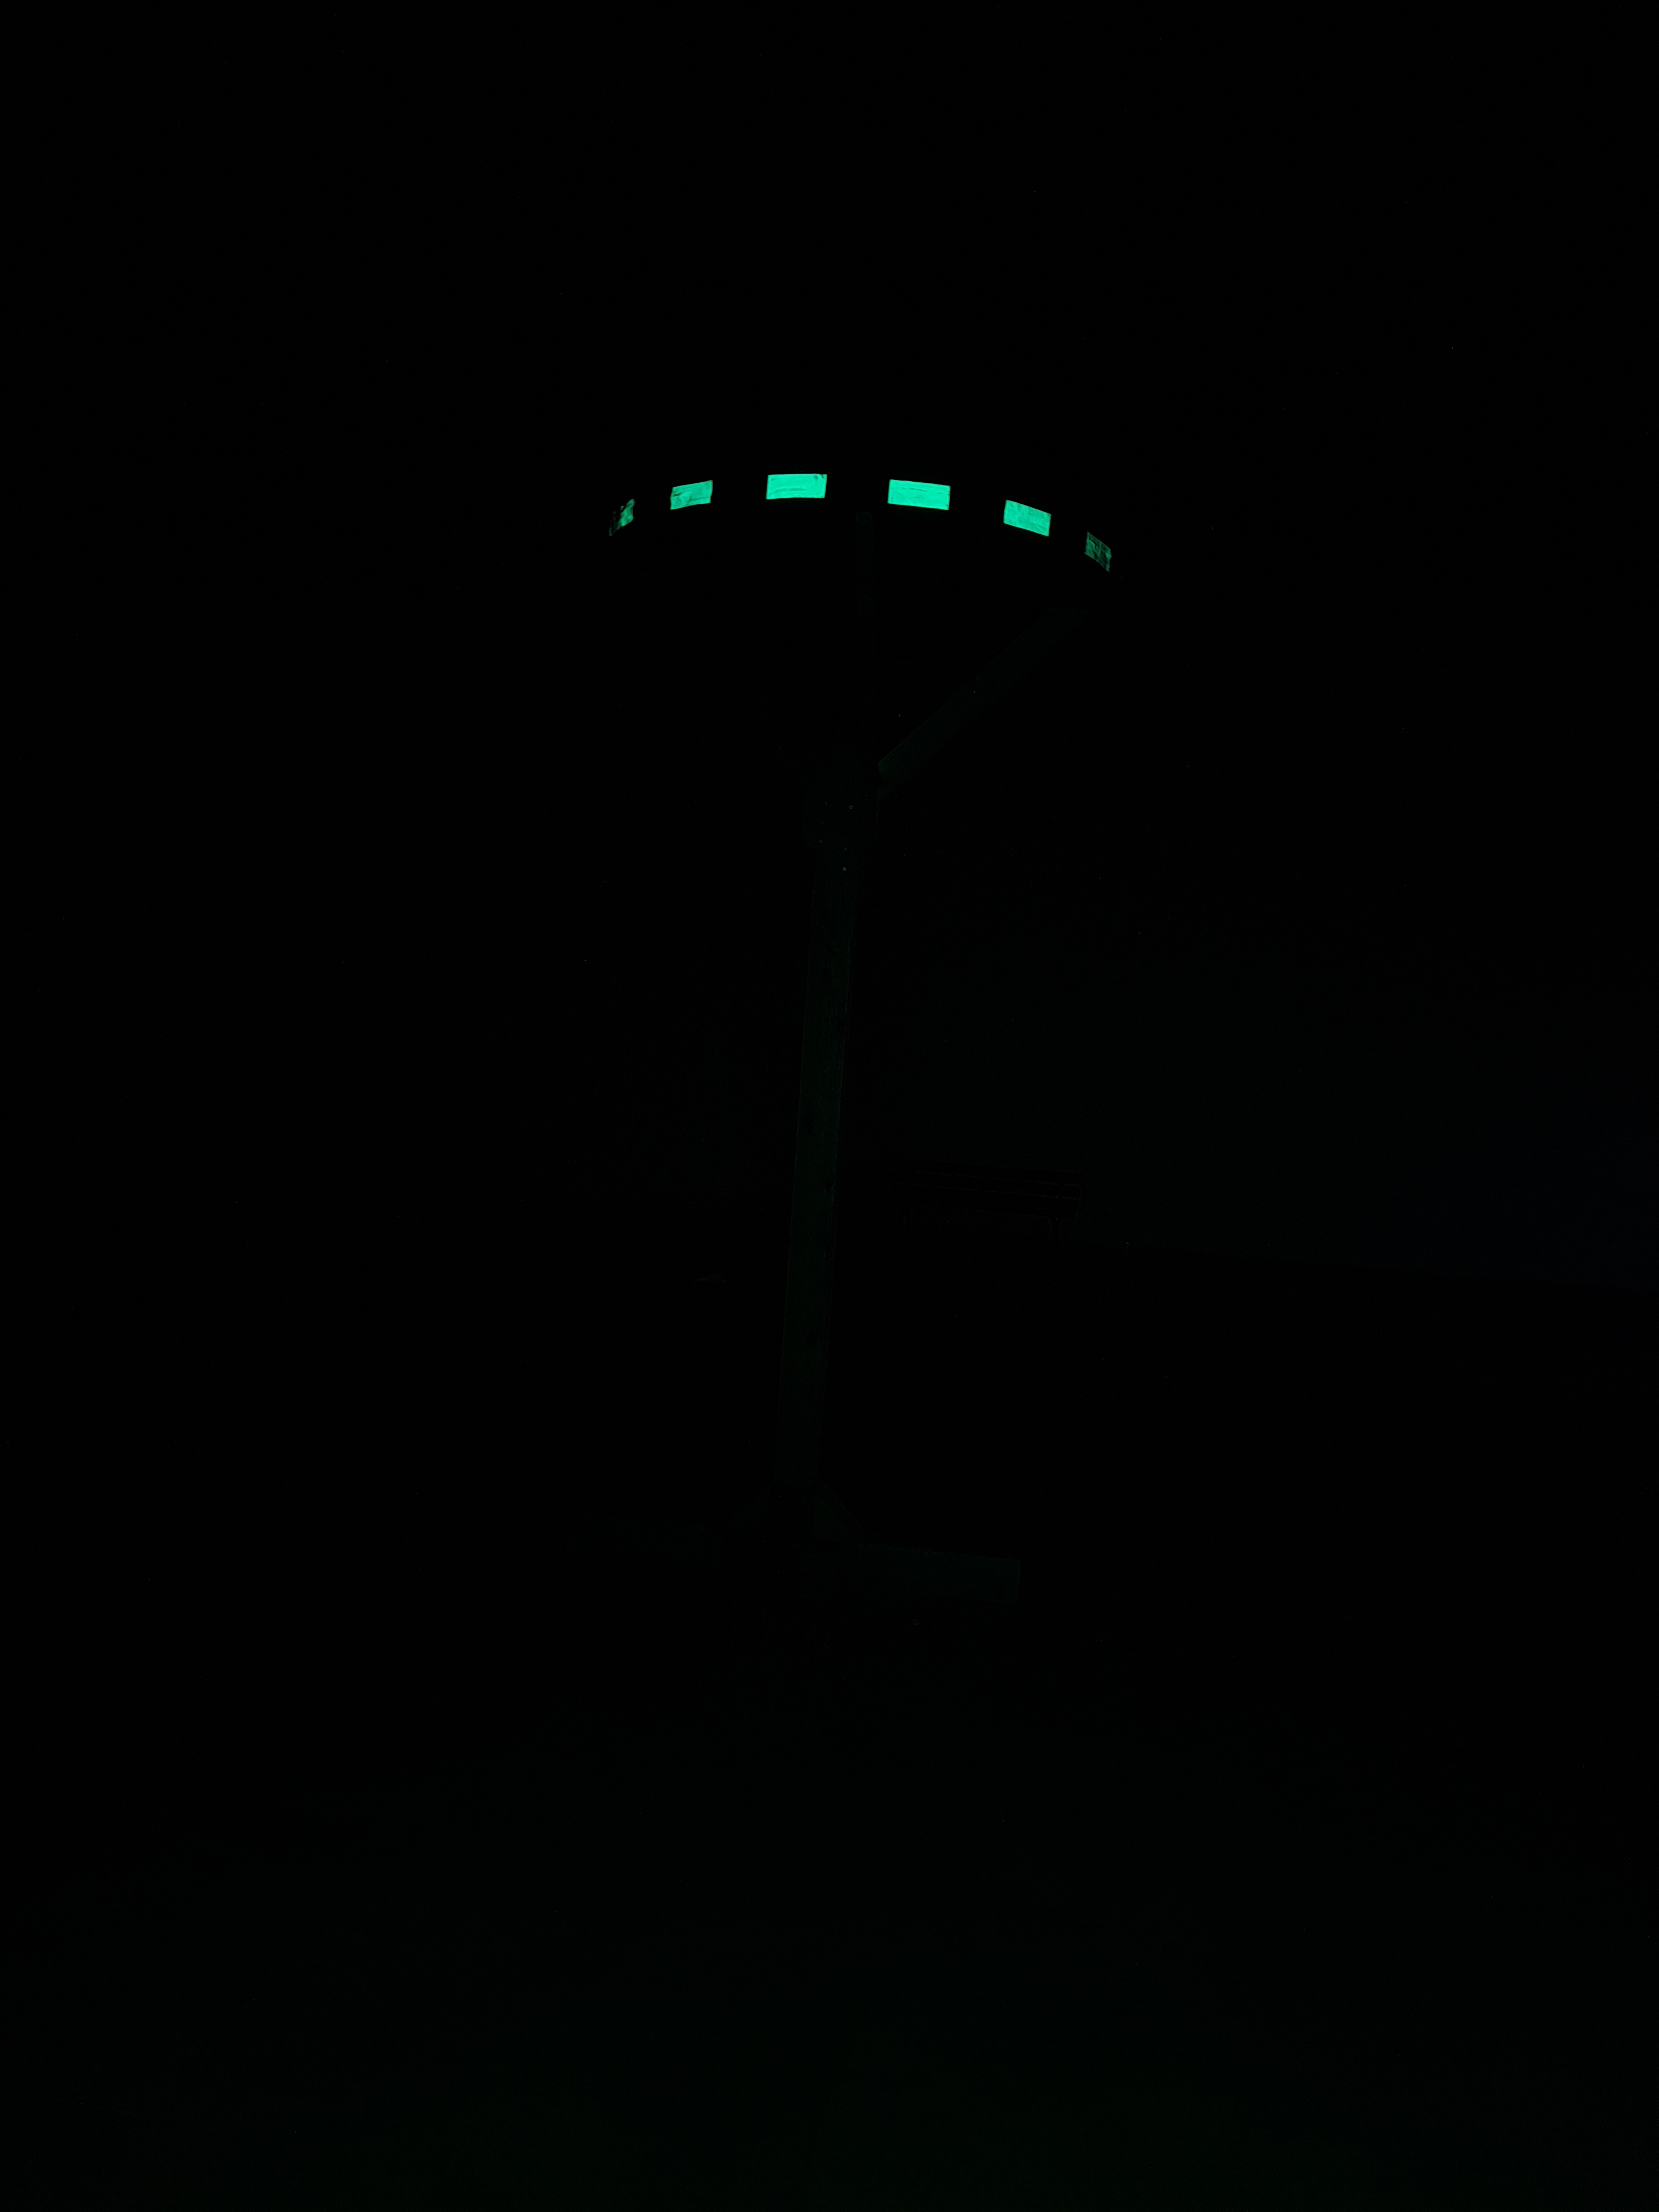hoop: (608, 465, 1119, 582)
